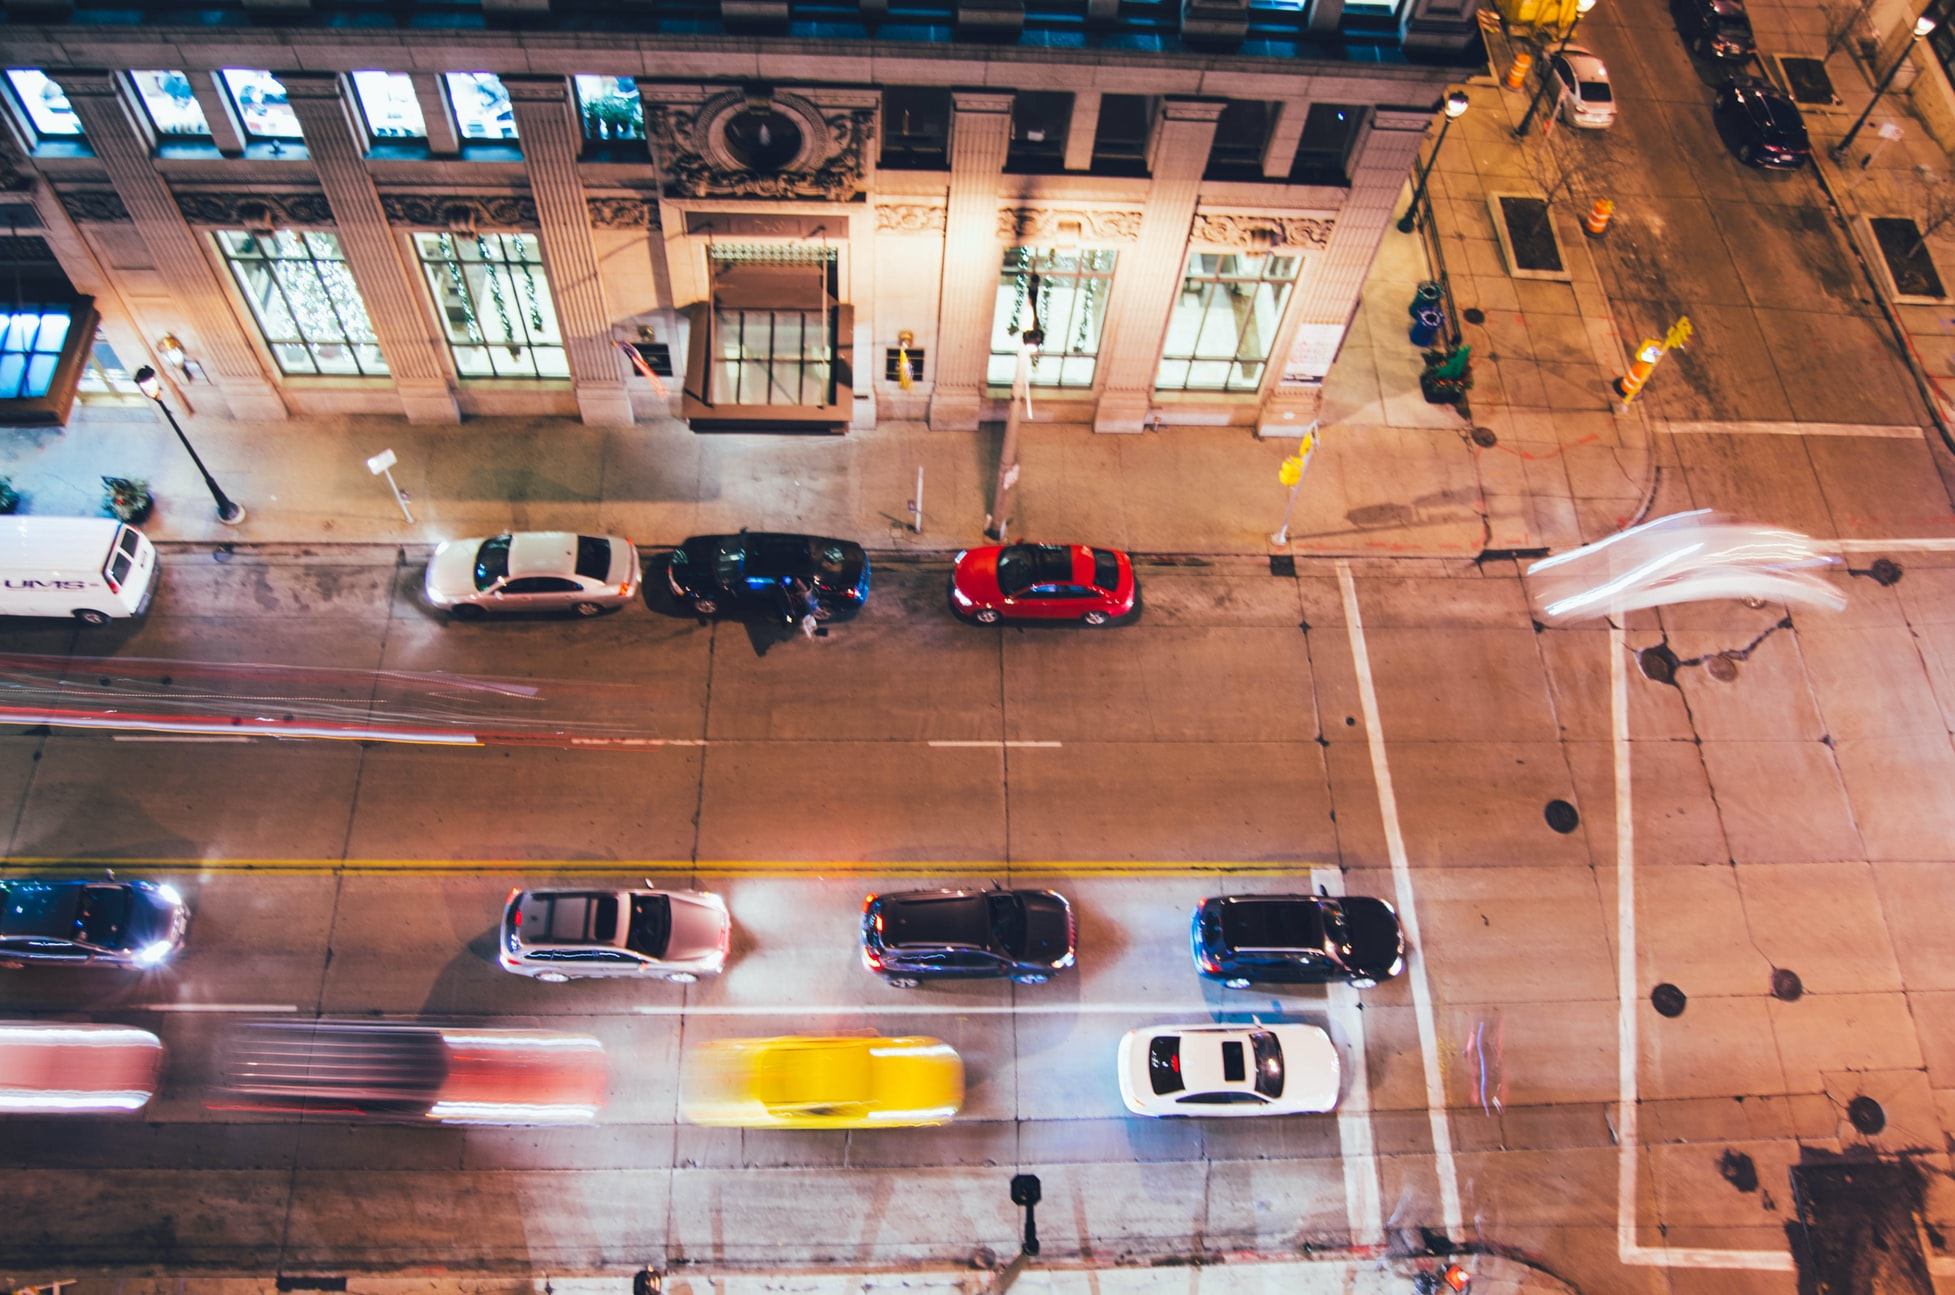car: (467, 877, 751, 991), (1100, 1015, 1371, 1129), (855, 872, 1091, 1002), (1168, 880, 1426, 986), (655, 520, 881, 640), (932, 536, 1165, 645), (1, 504, 176, 630), (418, 532, 657, 621), (1, 872, 207, 976)
